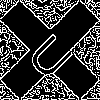U: (24, 24, 83, 83)
